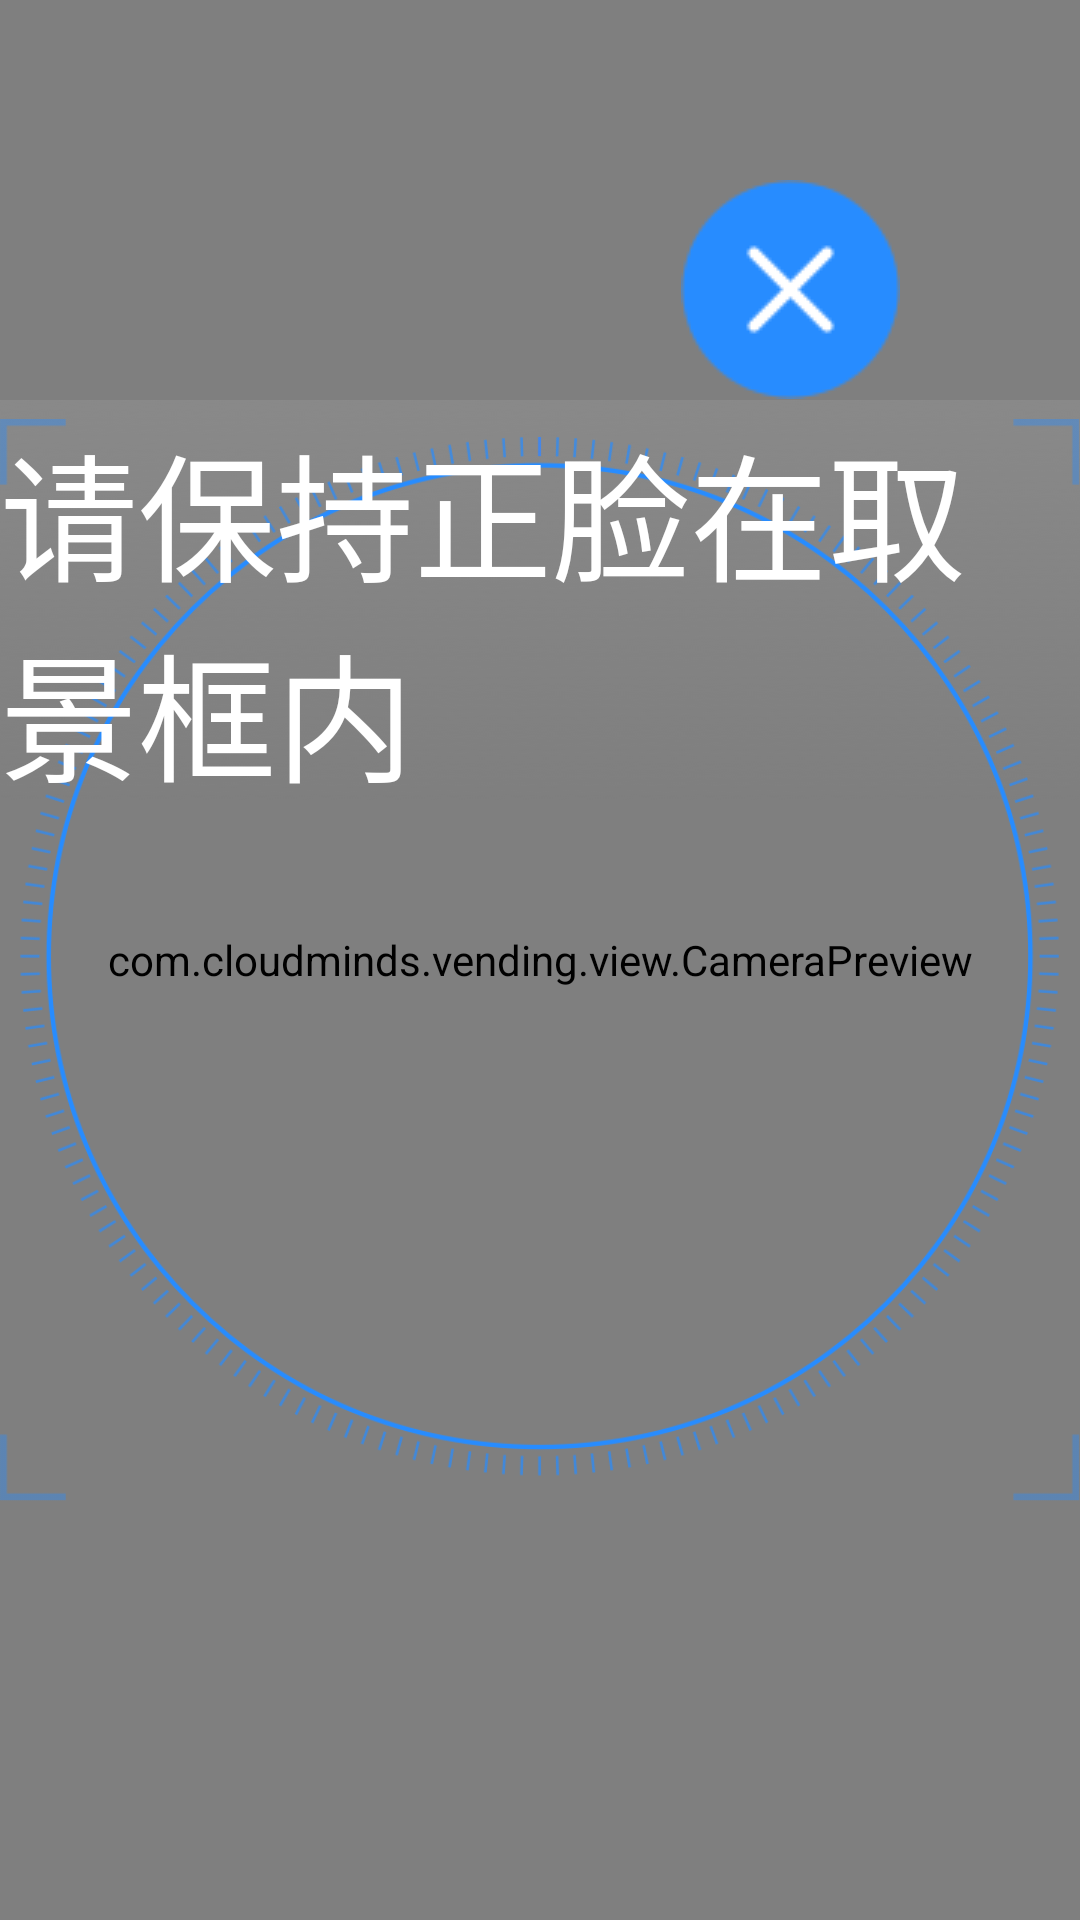

Icon click points for this 1080 × 1920 phone screenshot, format (x=x, y=y):
close: (x=790, y=289)
